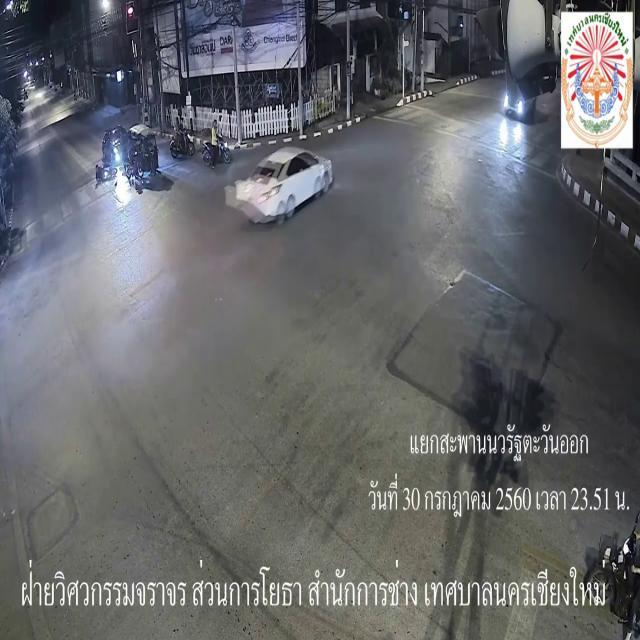normal: (184, 116, 376, 249)
